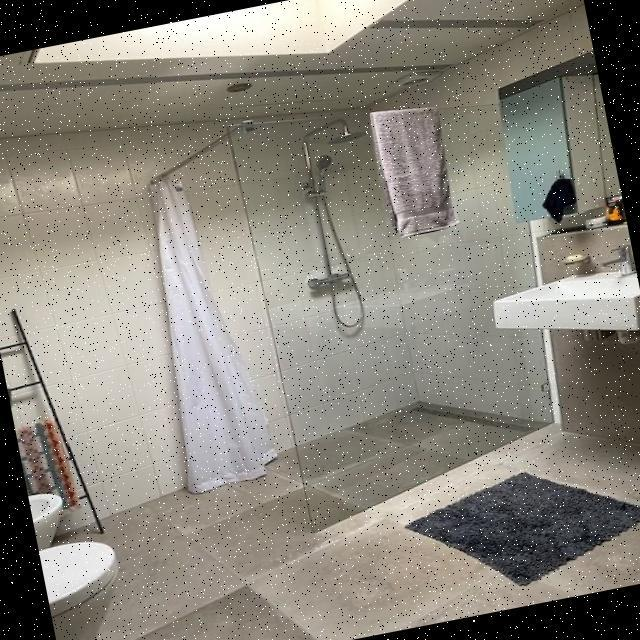douche: (142, 74, 574, 554)
toilet: (38, 531, 141, 640), (28, 488, 72, 550)
wastafel: (485, 240, 640, 369)
